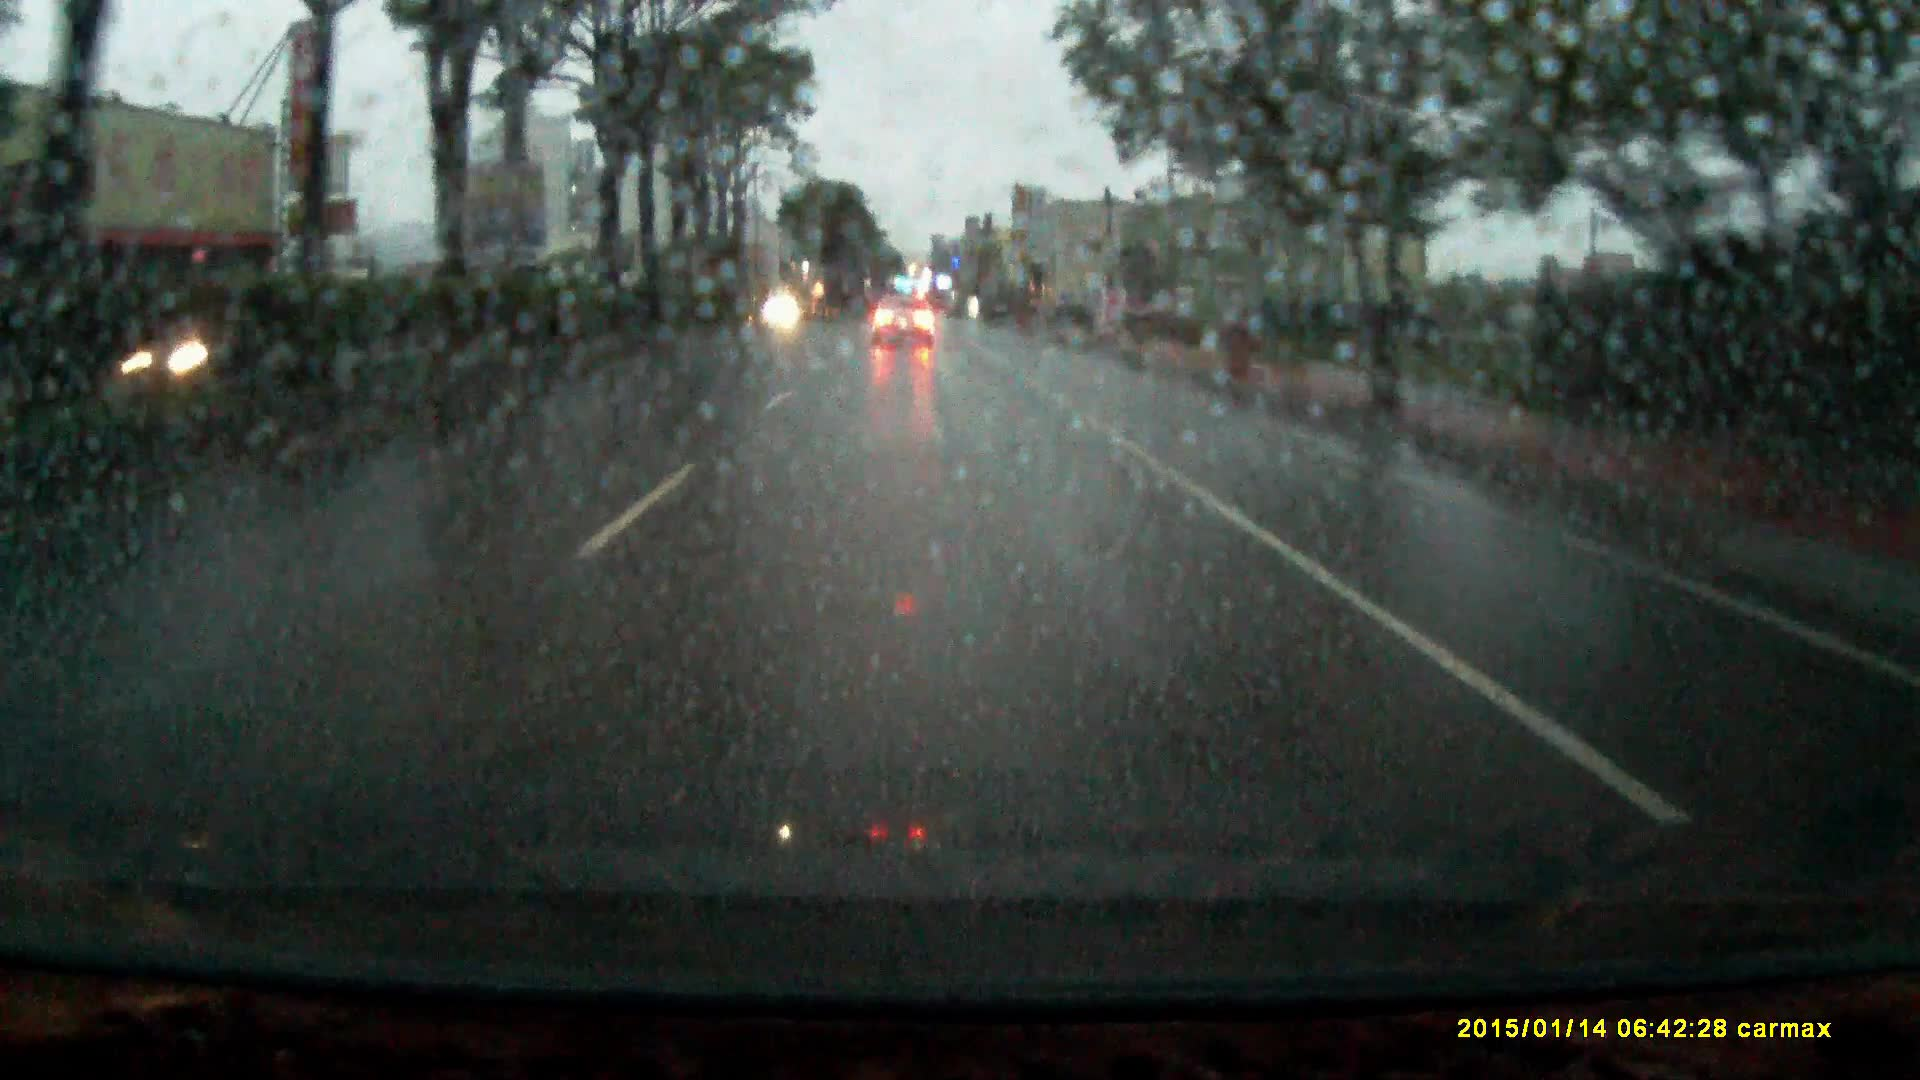vehicle: (876, 299, 936, 343)
